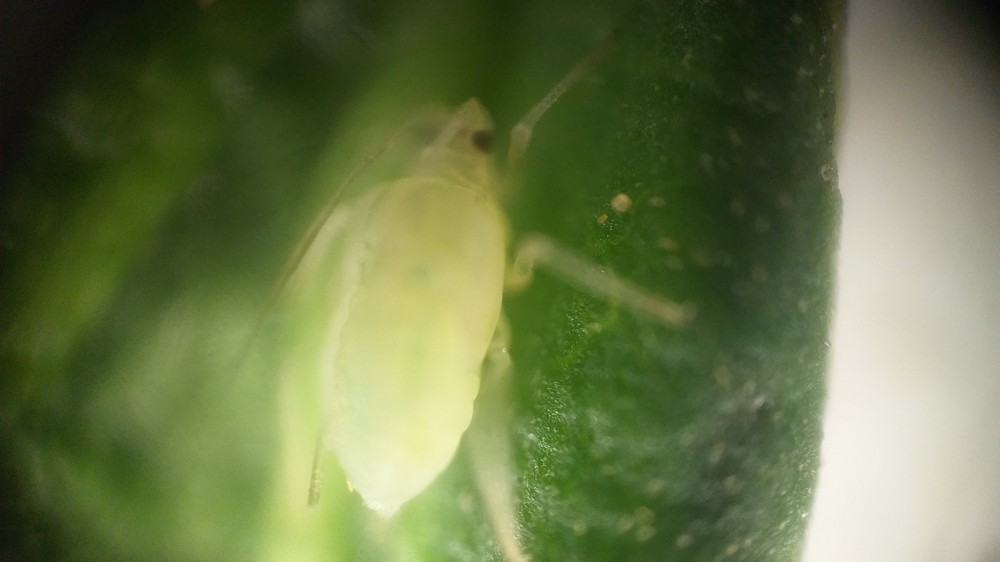Pulgon: (207, 31, 713, 551)
